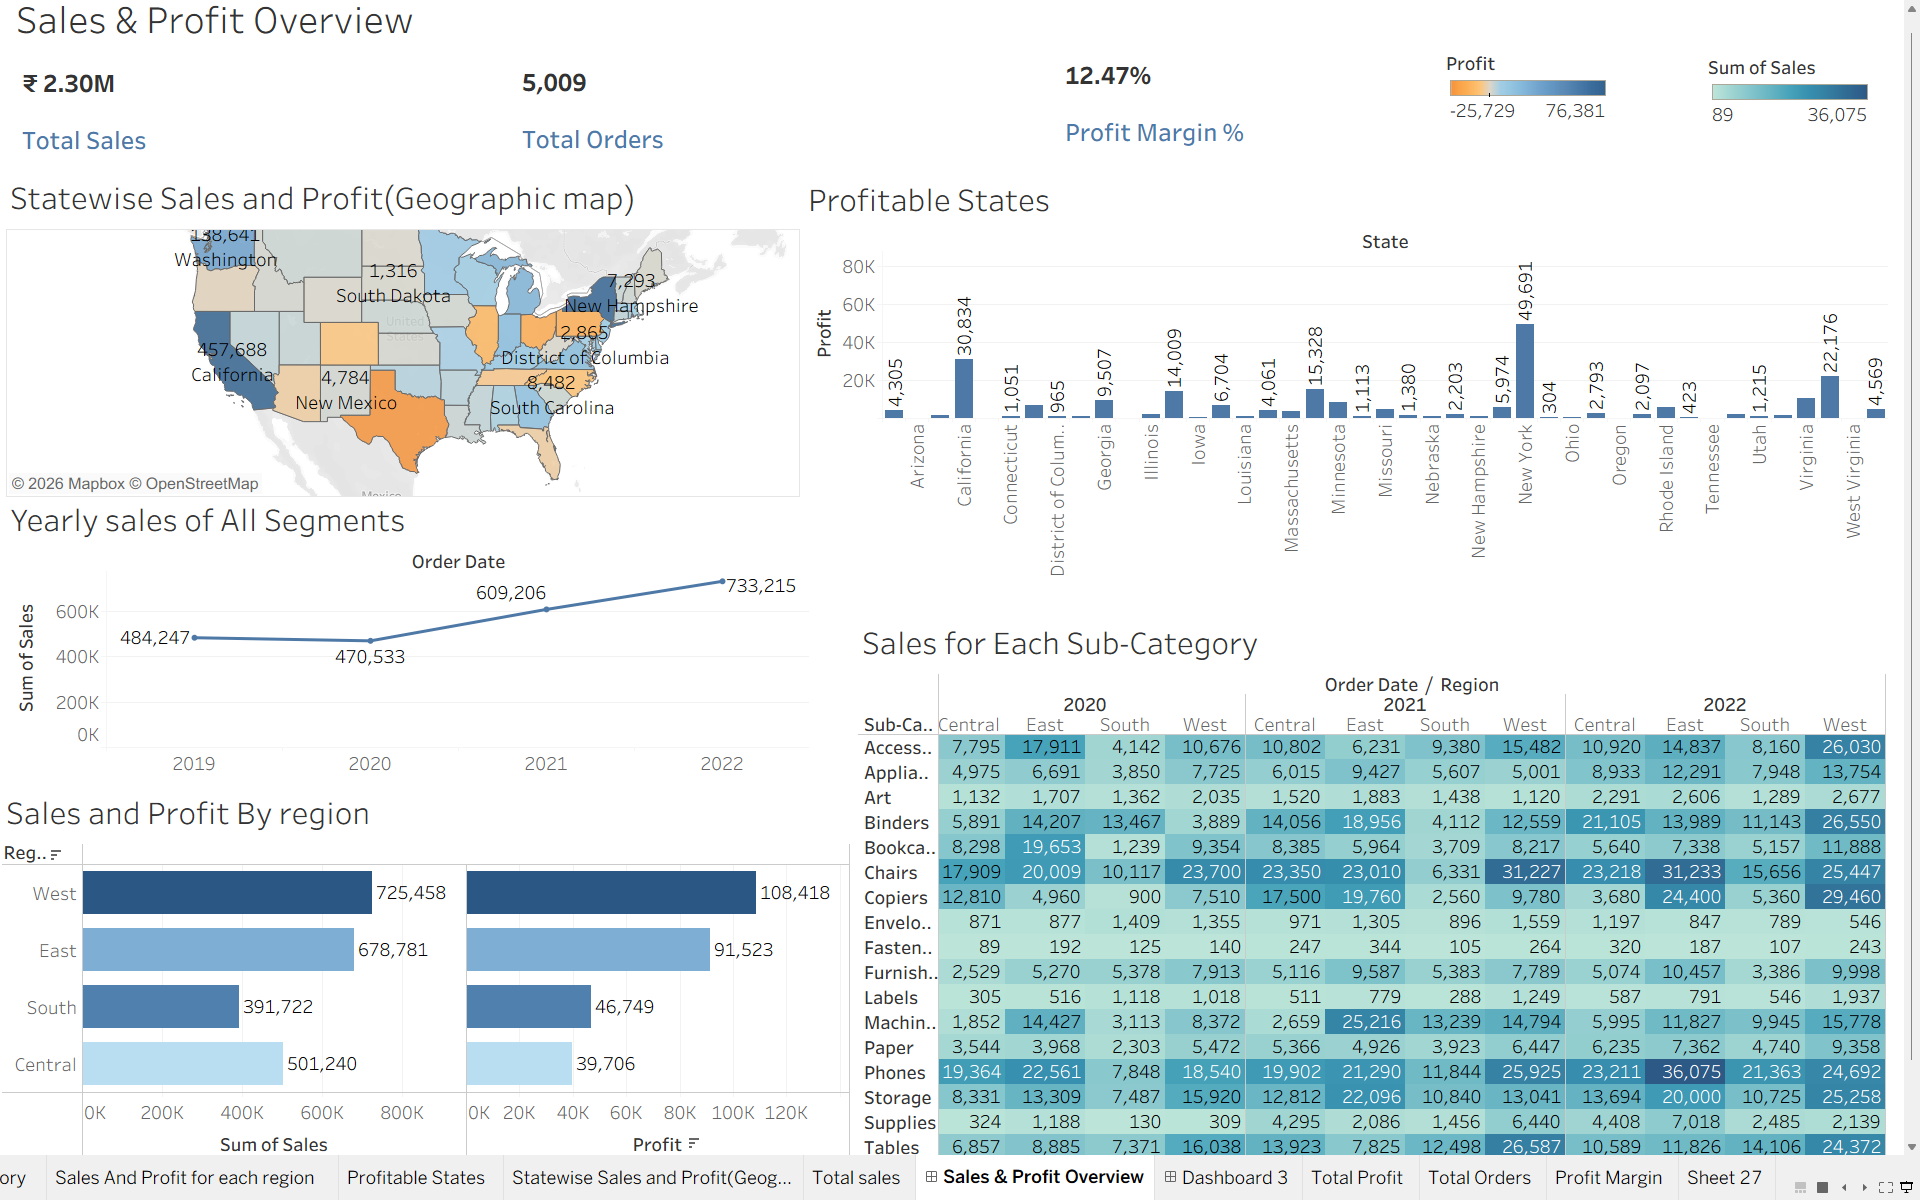

The dashboard page shown, as its layout file describes it:
{"tool":"tableau","page":{"name":"Sales & Profit Overview","canvas":[1000,1000],"units":"permille","ordinal":1},"visuals":[{"type":"title","box":[4.9,6.4,990.3,46]},{"type":"worksheet","title":"Profit Margin","mark":"Automatic","box":[563.7,59.5,155.3,111.1]},{"type":"worksheet","title":"Total Orders","mark":"Automatic","box":[277.3,60.3,170.5,95.2]},{"type":"legend","title":"Sales for Each Sub-Category","param":"[federated.0u0690y0kovgba1965idj1c1vxn7].[sum:Sales:qk]","box":[906.6,64.3,86.2,79.4]},{"type":"worksheet","title":"Total sales","mark":"Text","box":[7.9,68.2,120.2,103.2]},{"type":"legend","title":"Statewise Sales and Profit(Geographic map)","param":"[federated.0u0690y0kovgba1965idj1c1vxn7].[sum:Profit:qk]","box":[759.7,69.8,86.2,77]},{"type":"worksheet","title":"Profitable States","mark":"Automatic","rows":["Profit"],"cols":["State"],"box":[423.5,172.2,569.8,380.2]},{"type":"worksheet","title":"Statewise Sales and Profit(Geographic map)","mark":"Automatic","box":[6.1,181.8,418.7,290.5]},{"type":"worksheet","title":"Yearly sales of All Segments","mark":"Line","rows":["Sales"],"cols":["Order Date"],"box":[0.6,477.8,465.4,249.2]}]}

Visuals, with their boxes on the dashboard's canvas, which has no fixed pixel size, in thousandths of its width and height (x1, y1, x2, y2). These are canvas units, not pixel positions in the 1920x1200 screenshot, which may show the page scaled, cropped or inside an application window:
title: region(5, 6, 995, 52)
"Profit Margin" worksheet: region(564, 60, 719, 171)
"Total Orders" worksheet: region(277, 60, 448, 156)
"Sales for Each Sub-Category" legend: region(907, 64, 993, 144)
"Total sales" worksheet (Text marks): region(8, 68, 128, 171)
"Statewise Sales and Profit(Geographic map)" legend: region(760, 70, 846, 147)
"Profitable States" worksheet: region(424, 172, 993, 552)
"Statewise Sales and Profit(Geographic map)" worksheet: region(6, 182, 425, 472)
"Yearly sales of All Segments" worksheet (Line marks): region(1, 478, 466, 727)
